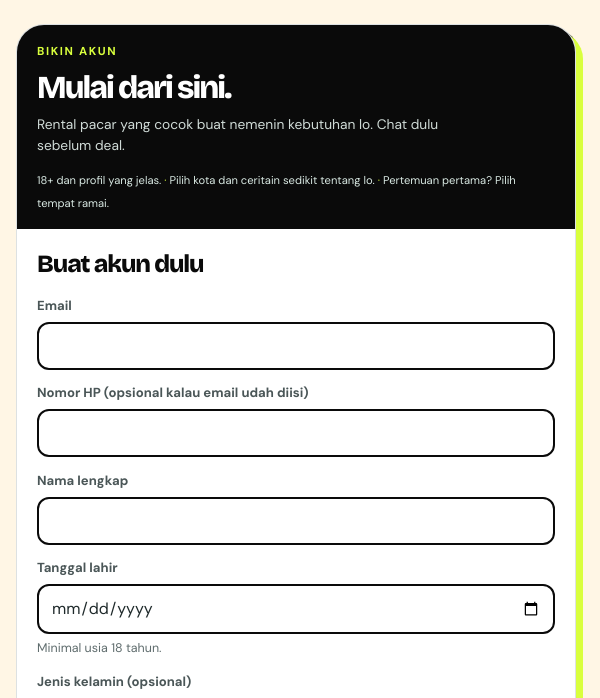
it: RegisterPage validation › requires terms to be accepted
The width and height of the screenshot is (600, 698).
Type "user@example.com" into the field labelled "Email". click: x=296, y=346
box: [37,322,555,370]
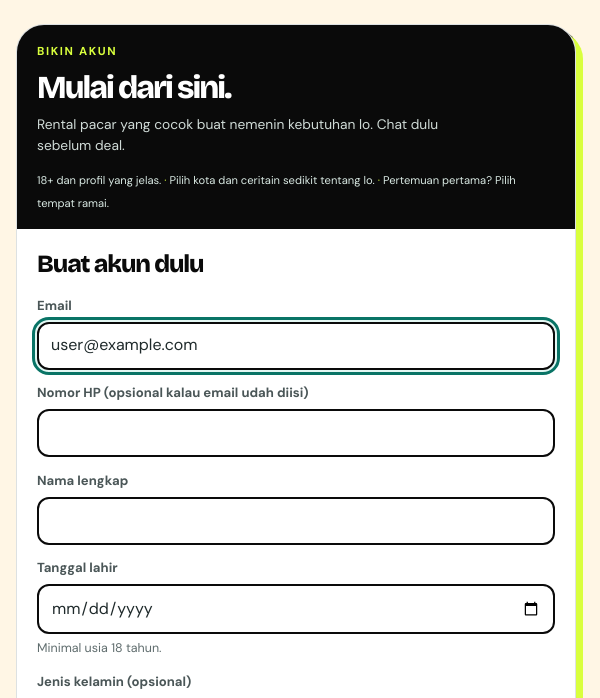
Type "Budi" into the field labelled "Nama lengkap". click: x=296, y=521
box: [37,497,555,545]
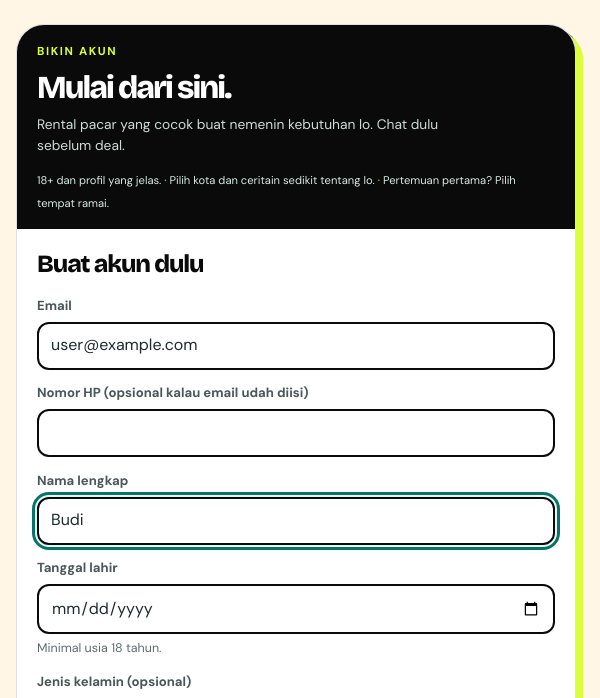
Type "2000-01-01" into the date field labelled "Tanggal lahir". click: x=296, y=609
box: [37,584,555,634]
(page scrolled)
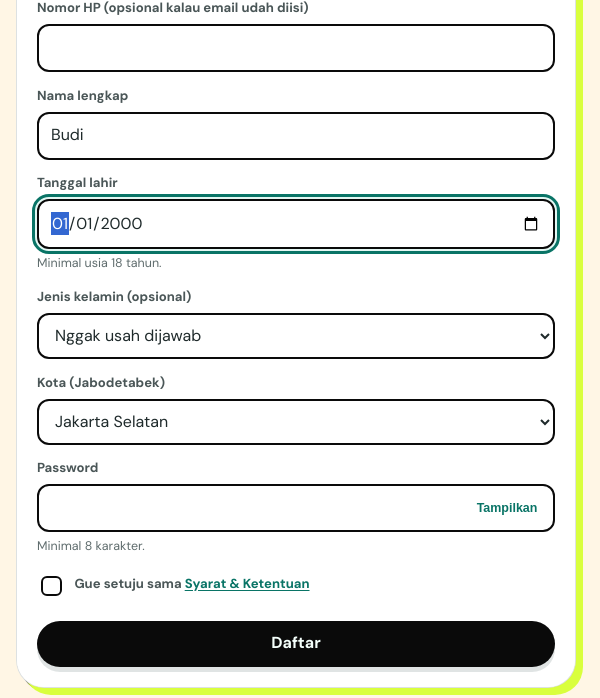
Type "password123" into the password field labelled "Password". click: x=296, y=508
box: [37,484,555,532]
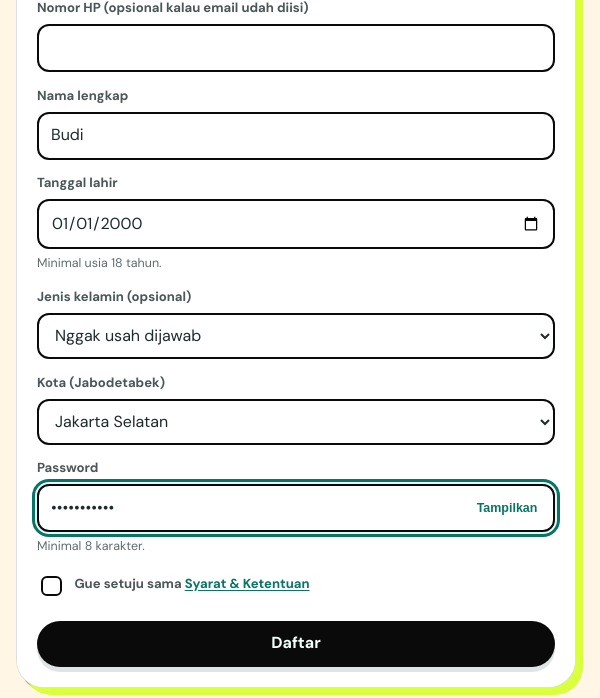
Click the button "Daftar". click: x=296, y=644
box: [37,621,555,666]
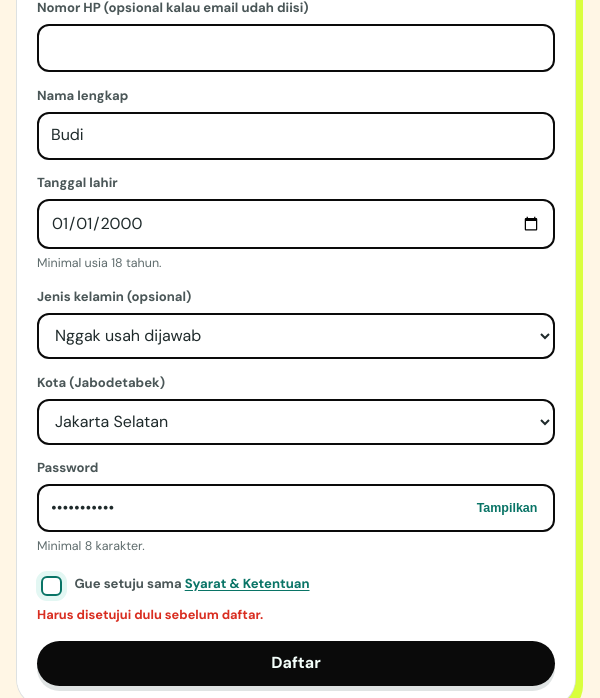
Check: the text "Harus disetujui dulu sebelum daftar." is shown, box [37,606,263,623]
